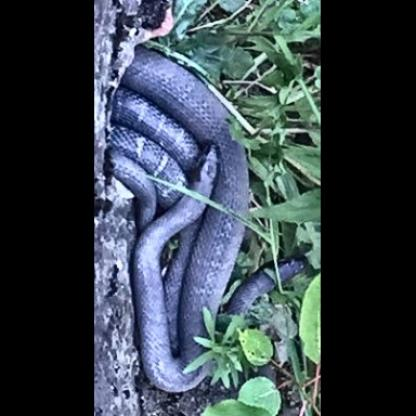Snake: (110, 35, 303, 389)
